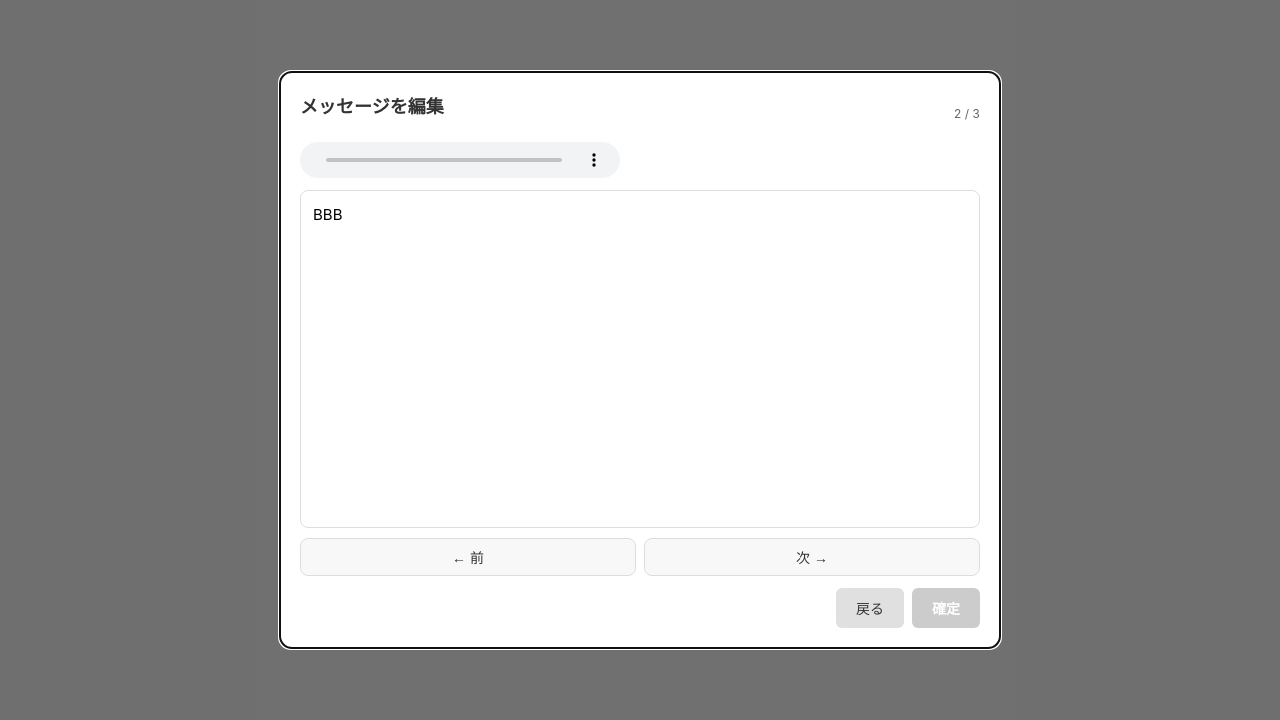
it: VoiceEditModal — 添付音声からの連続編集 (#379) › ★ 前/次 で音声添付メッセージの間を移動する
Expected: the text "2 / 3" is shown, [954,106,980,120]
Click the button "次 →": (812, 557) [644,538,980,576]
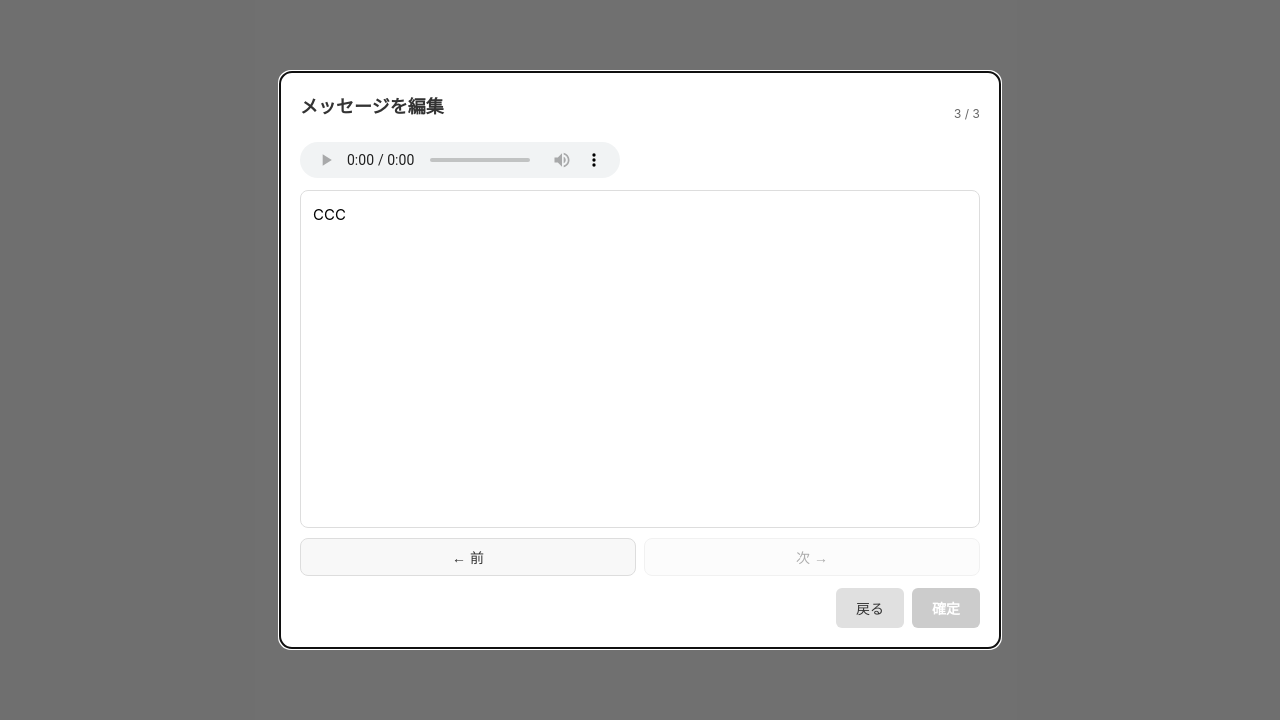
Expected: the text box holds "CCC", [300,190,980,528]
